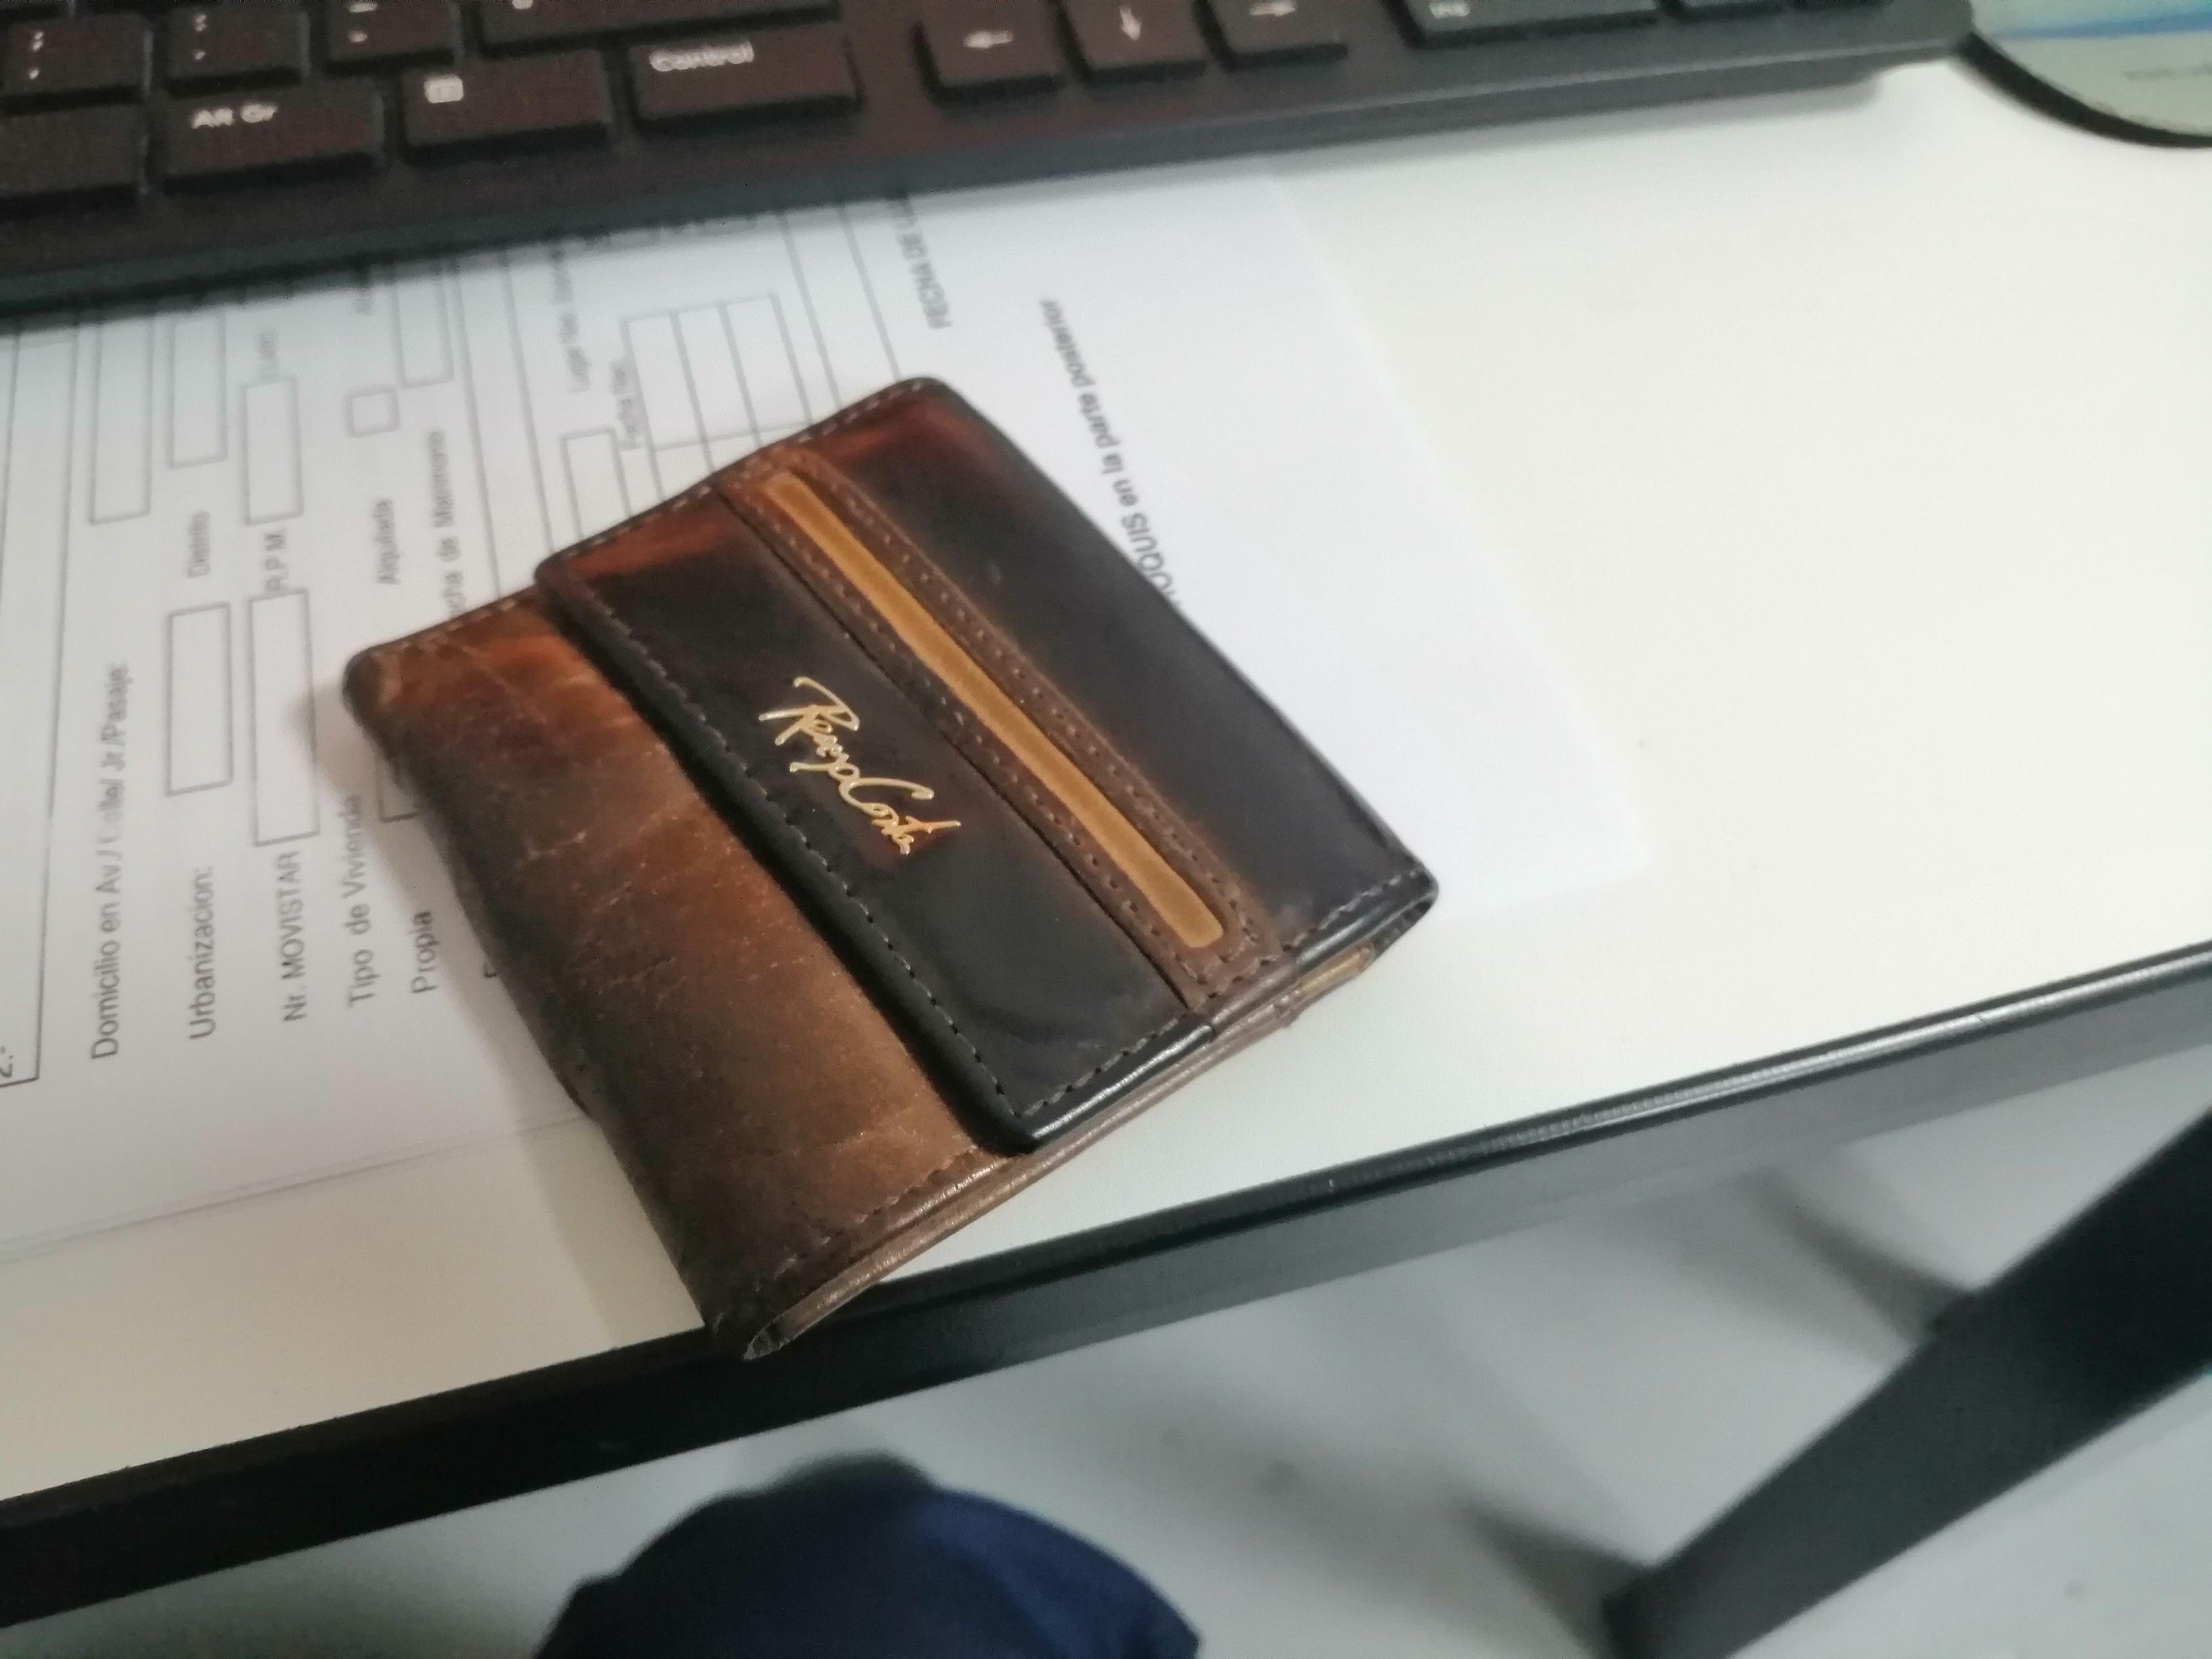monedero: (320, 359, 1461, 1380)
